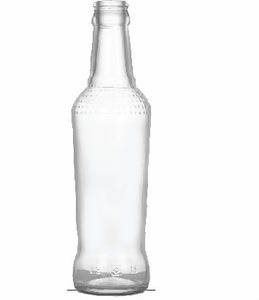container: (63, 1, 160, 299)
